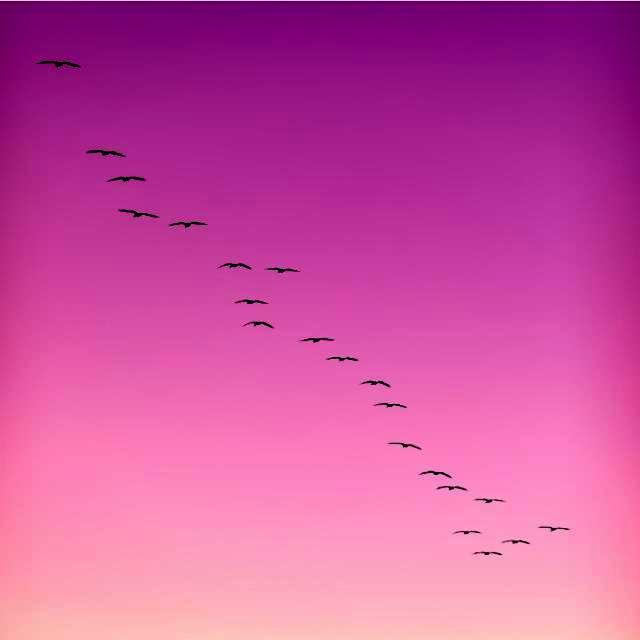bird: (109, 199, 160, 223), (218, 250, 255, 280), (257, 262, 307, 282), (164, 219, 220, 236), (363, 398, 430, 412), (233, 316, 283, 334), (224, 294, 268, 314), (36, 55, 82, 73), (84, 143, 130, 161), (387, 436, 429, 454), (100, 172, 151, 186), (321, 353, 376, 364), (294, 335, 338, 348), (354, 379, 402, 389), (434, 483, 469, 495), (448, 526, 482, 537), (499, 538, 535, 548), (419, 468, 454, 478), (471, 550, 503, 560), (537, 524, 571, 533), (474, 497, 509, 505)
